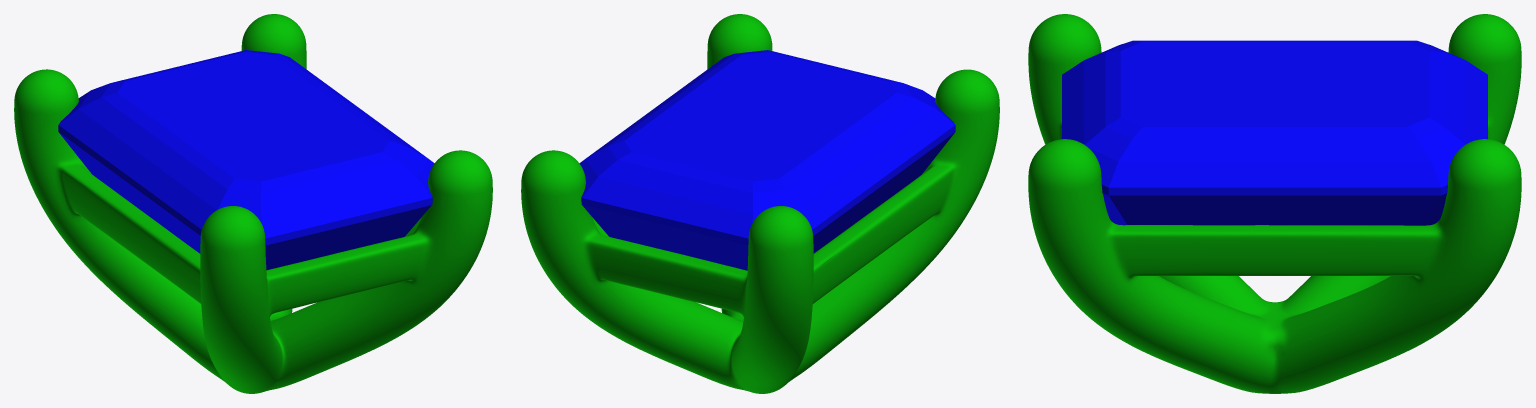
3 renders of one model, left to right at view 1: azimuth 30°, elevation 25°; view 2: azimuth 150°, elevation 25°; view 3: azimuth 270°, elevation 25°, orthographic. The views are drawn at different scales.
Visible parts, largest first — view 1: Metal01, Diamond_Emerald; view 2: Metal01, Diamond_Emerald; view 3: Metal01, Diamond_Emerald.
Part boxes in pixels (x1,y1,x2,y2): Metal01: (14, 14, 492, 393); Diamond_Emerald: (58, 50, 434, 270); Metal01: (521, 14, 999, 393); Diamond_Emerald: (579, 50, 955, 270); Metal01: (1028, 14, 1521, 393); Diamond_Emerald: (1062, 40, 1487, 225).
Size of the model in its own units: 6.64 by 5.98 by 8.86.
